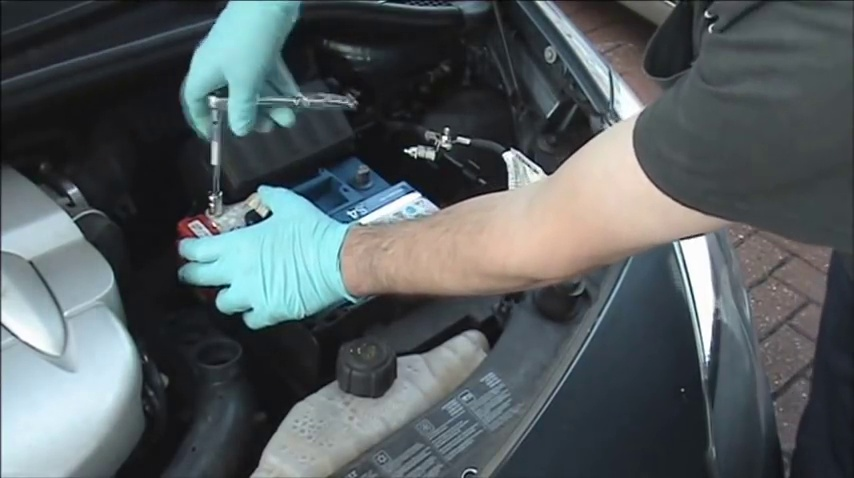battery: (171, 158, 458, 250)
neg_disconnected: (336, 146, 391, 195)
pos_touched: (176, 181, 291, 283)
